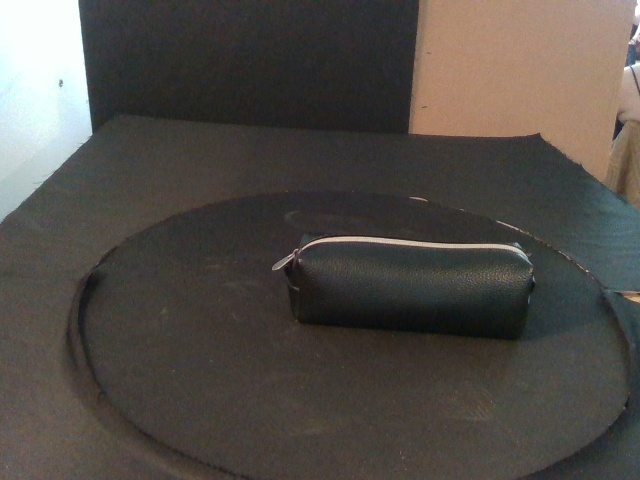pencil_case: (284, 232, 536, 341)
